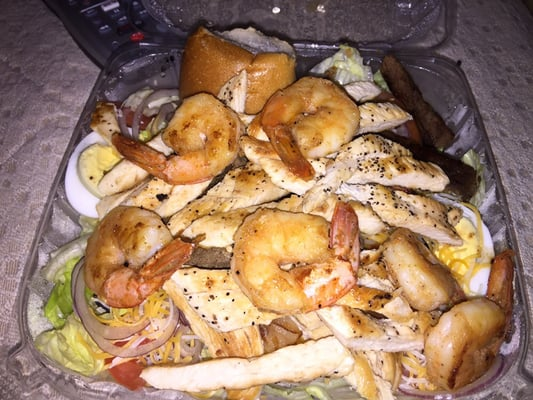curry: (8, 0, 529, 399)
